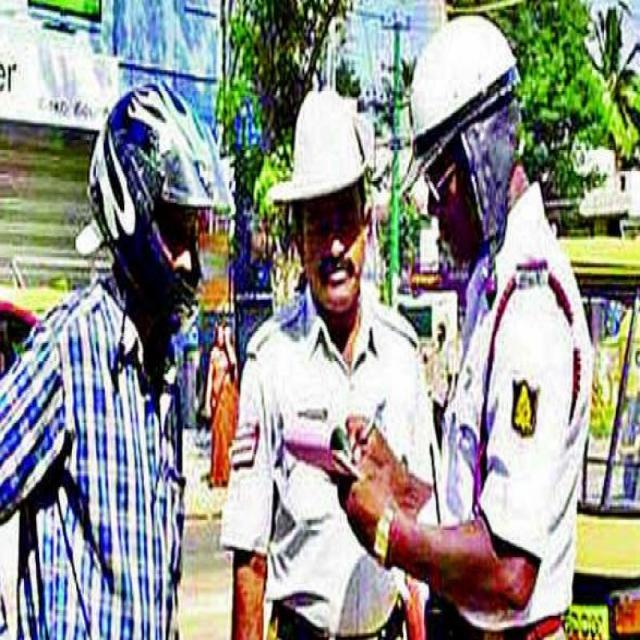safety_helmet: (80, 69, 228, 334), (403, 12, 524, 147)
